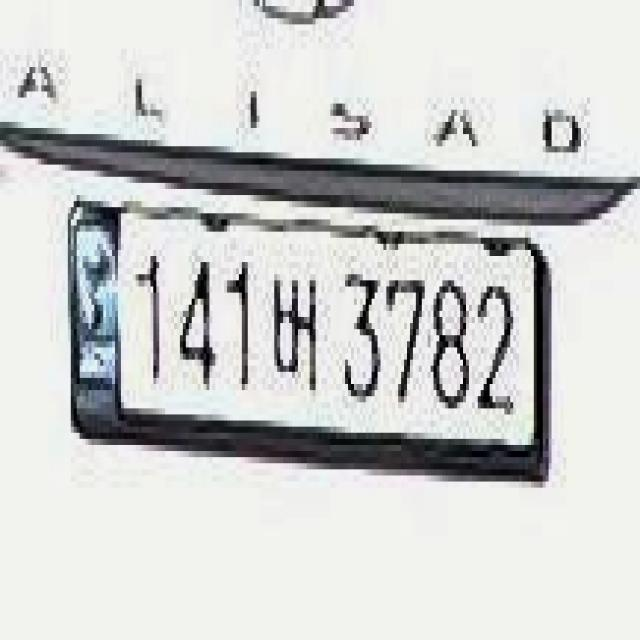illegal_plate: (65, 187, 550, 513)
